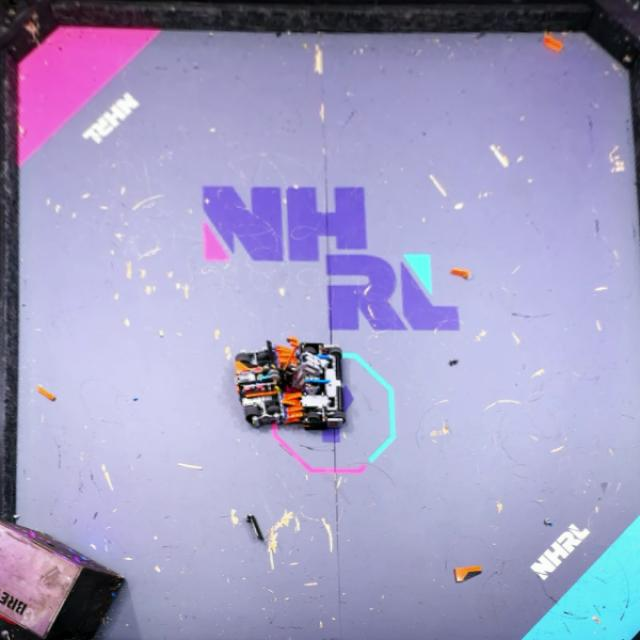housebot: (0, 519, 127, 640)
robot: (283, 336, 345, 430), (234, 340, 299, 428)
